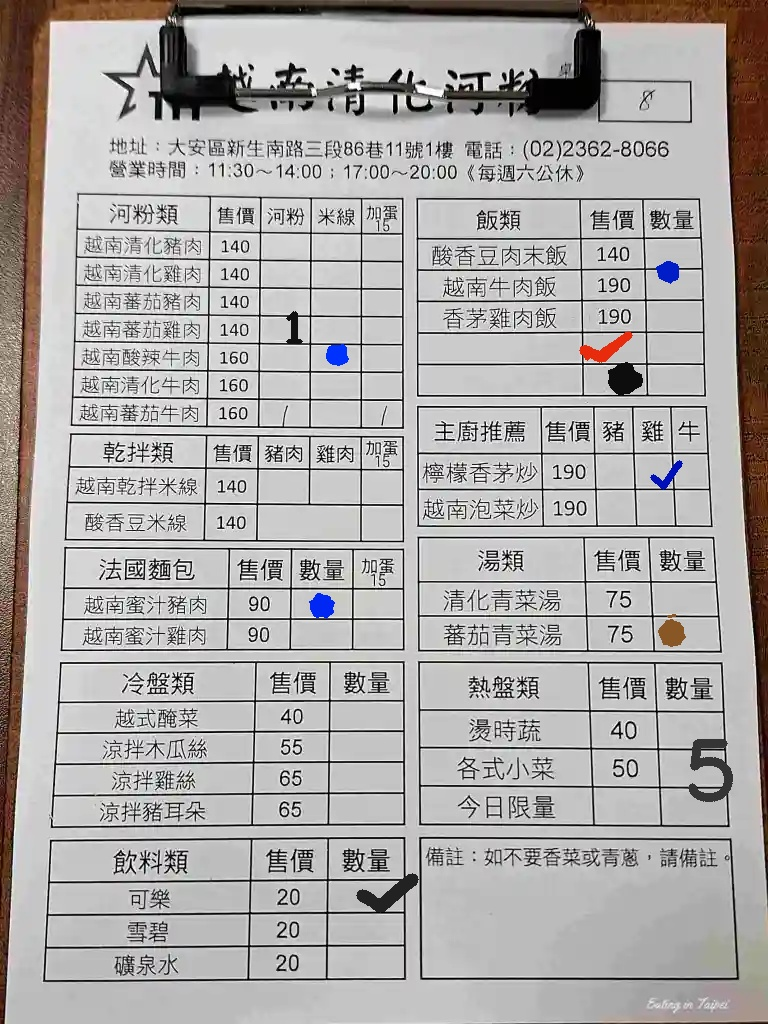marked_circle: (652, 615, 721, 650), (290, 587, 352, 617), (585, 362, 645, 392), (643, 268, 703, 298), (311, 343, 360, 371)
marked_number_1: (259, 316, 308, 344)
marked_number_5: (657, 748, 726, 783)
marked_tick: (332, 878, 401, 913), (585, 331, 645, 361), (633, 452, 673, 489)
